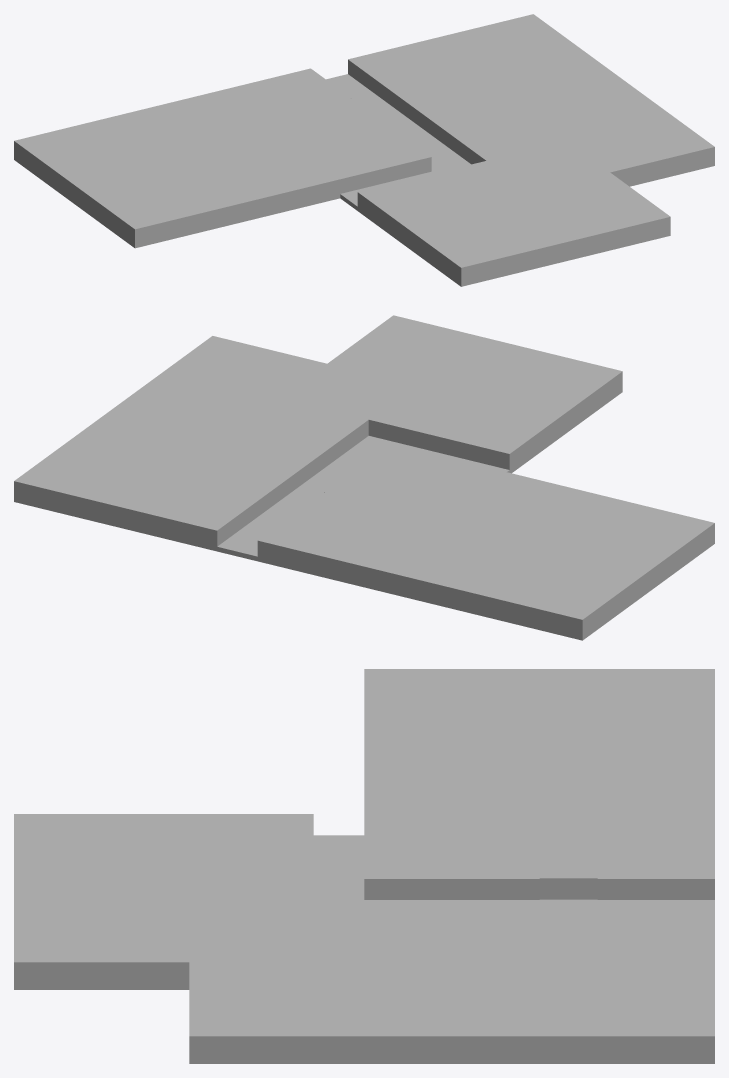
Rendered from floor.glb.
3 views of the same model, one above another, from view 1: azimuth 30°, elevation 25°; view 2: azimuth 150°, elevation 25°; view 3: azimuth 270°, elevation 25° (orthographic). The views are drawn at different scales.
Visible parts, largest first — view 1: floor2_room_1, floor1_room_4, floor4_room_2, floor5_room_5, floor1_room_1, floor1_room_5, floor1_room_2, floor1_room_3, floor3_room_2, floor5_room_4, floor1_room_6, floor_base_side (+2 smaller); view 2: floor4_room_2, floor2_room_1, floor1_room_3, floor1_room_5, floor1_room_4, floor1_room_1, floor5_room_5, floor3_room_2, floor5_room_4, floor1_room_6, floor1_room_2, floor_base_side (+2 smaller); view 3: floor1_room_4, floor2_room_1, floor1_room_5, floor4_room_2, floor1_room_3, floor3_room_2, floor5_room_5, floor1_room_2, floor1_room_1, floor1_room_6, floor5_room_4, floor_base (+2 smaller).
Boxes of the visible parts, x1,y1,x2,y2 form: floor2_room_1: [14, 69, 405, 242]; floor1_room_4: [348, 14, 633, 146]; floor4_room_2: [348, 14, 714, 191]; floor5_room_5: [357, 115, 713, 281]; floor1_room_1: [357, 170, 552, 282]; floor1_room_5: [470, 102, 714, 250]; floor1_room_2: [247, 113, 431, 205]; floor1_room_3: [14, 68, 351, 182]; floor3_room_2: [135, 114, 431, 243]; floor5_room_4: [348, 15, 653, 162]; floor1_room_6: [74, 161, 235, 243]; floor_base_side: [14, 156, 714, 286]; floor4_room_2: [15, 336, 414, 545]; floor2_room_1: [259, 444, 709, 635]; floor1_room_3: [257, 508, 626, 635]; floor1_room_5: [147, 315, 481, 433]; floor1_room_4: [14, 401, 327, 546]; floor1_room_1: [410, 347, 622, 469]; floor5_room_5: [180, 315, 622, 469]; floor3_room_2: [324, 444, 713, 570]; floor5_room_4: [18, 384, 347, 545]; floor1_room_6: [539, 505, 714, 586]; floor1_room_2: [324, 443, 564, 534]; floor_base_side: [14, 387, 714, 640]; floor1_room_4: [423, 905, 714, 1057]; floor2_room_1: [364, 669, 714, 899]; floor1_room_5: [14, 905, 364, 1057]; floor4_room_2: [189, 905, 714, 1057]; floor1_room_3: [597, 669, 714, 899]; floor3_room_2: [364, 669, 539, 878]; floor5_room_5: [14, 814, 313, 1057]; floor1_room_2: [364, 766, 539, 899]; floor1_room_1: [14, 814, 313, 878]; floor1_room_6: [364, 669, 539, 739]; floor5_room_4: [364, 905, 714, 1057]; floor_base: [313, 835, 714, 904].
Size of the model in its own units: 124 by 4.34 by 100.
1 material, 1 textured.
